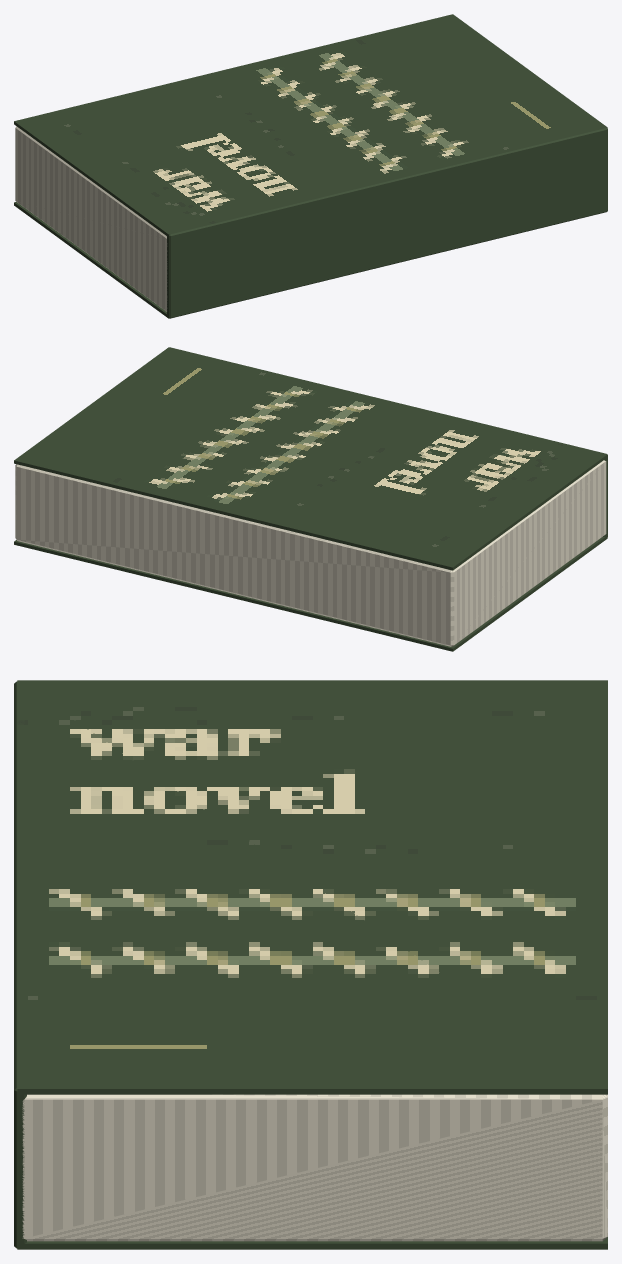
File: novel_war.glb
3 views of the same model, one above another, from view 1: azimuth 30°, elevation 25°; view 2: azimuth 150°, elevation 25°; view 3: azimuth 270°, elevation 25° (orthographic). The views are drawn at different scales.
Parts seen in each view (by area): view 1: block_front, block_spine, block_pages, block_back; view 2: block_front, block_pages, block_back, block_spine; view 3: block_front, block_pages, block_spine, block_back.
Part boxes in pixels (x1,y1,x2,y2): block_front: (14,14,607,237); block_spine: (167,128,607,318); block_pages: (15,126,167,311); block_back: (14,202,607,318); block_front: (14,347,607,570); block_pages: (15,460,606,646); block_back: (14,536,607,651); block_spine: (168,347,607,536); block_front: (17,680,607,1094); block_pages: (22,1094,607,1241); block_spine: (14,681,26,1248); block_back: (17,1237,607,1249).
Size of the model in its own units: 0.18 by 0.033 by 0.1106.
Materials: 1 (1 with a texture image).
